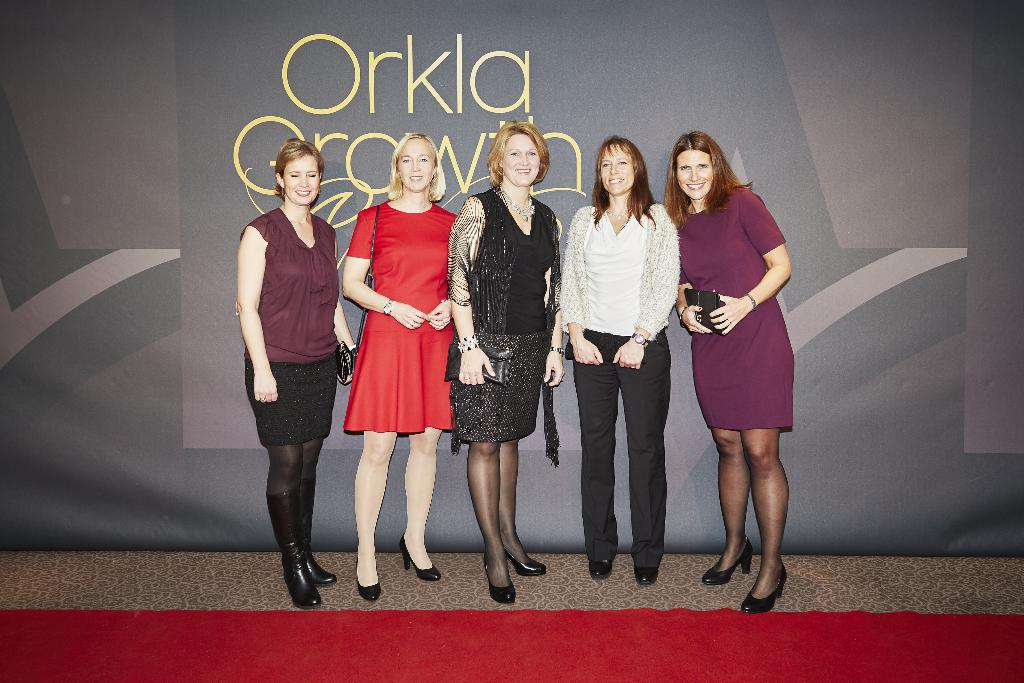Footwear: (266, 522, 319, 608), (298, 484, 339, 587), (742, 563, 790, 614), (701, 539, 752, 585), (484, 551, 516, 602), (398, 538, 438, 577), (353, 550, 382, 600), (503, 548, 547, 576), (591, 557, 612, 582), (637, 567, 653, 588)
